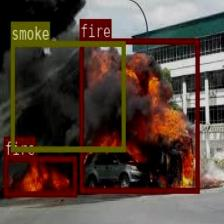fire: (79, 38, 199, 192), (4, 156, 76, 196)
smoke: (10, 41, 125, 151)
